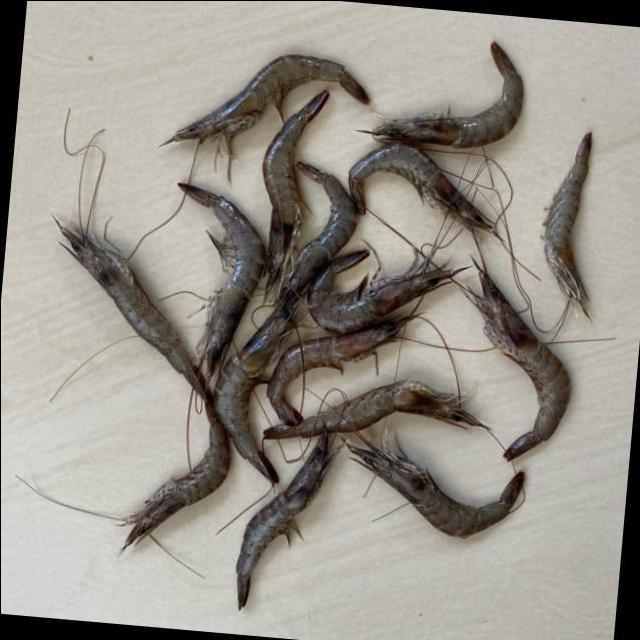shrimp: (53, 219, 208, 400), (462, 268, 571, 460), (161, 53, 368, 143), (236, 432, 341, 609), (177, 183, 264, 377), (118, 403, 230, 553), (265, 315, 417, 424), (214, 293, 301, 483), (369, 40, 523, 147), (349, 446, 524, 537), (348, 141, 498, 235), (263, 89, 328, 295), (308, 250, 466, 333), (263, 380, 489, 438), (279, 161, 356, 300), (544, 131, 592, 317)
